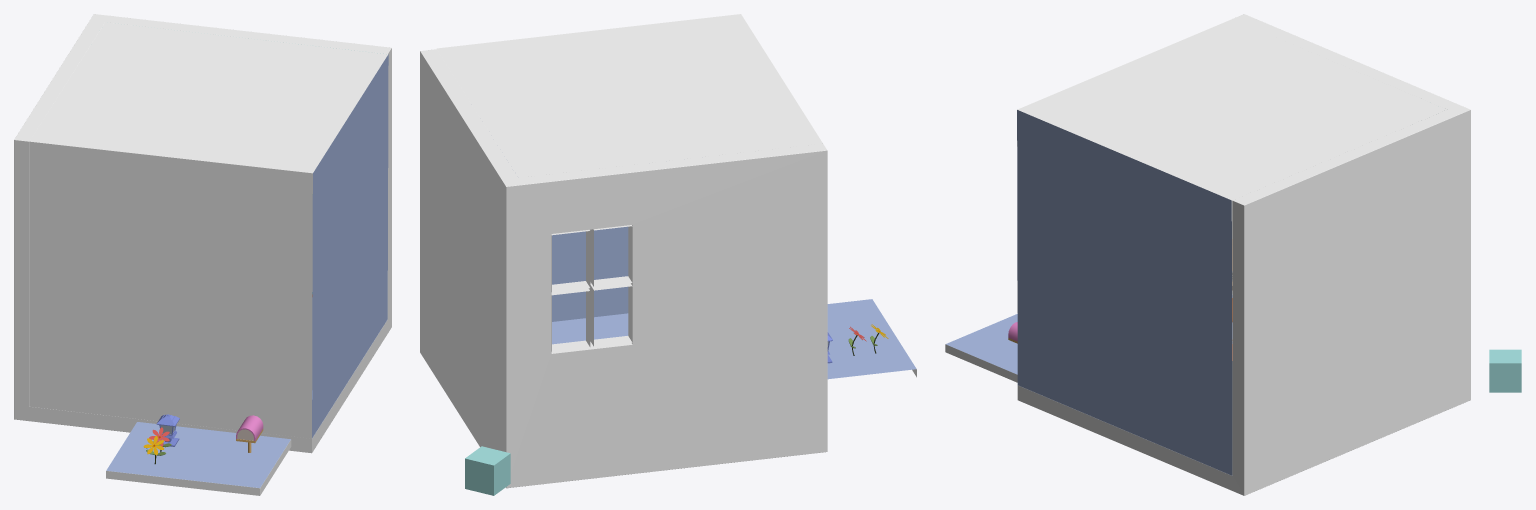
File: FinalVersion7.glb
3 views of the same model, side by side, from view 1: azimuth 30°, elevation 25°; view 2: azimuth 150°, elevation 25°; view 3: azimuth 270°, elevation 25° (orthographic). The views are drawn at different scales.
Visible parts, largest first — view 1: Body Cover, Body, Mini Floor, Mailbox, Lamp; view 2: Body, Body Cover, Mini Floor, Cube; view 3: Body Cover, Body, Mini Floor, Cube.
Part boxes in pixels (<box>): Body Cover: <box>29,22,388,438</box>; Body: <box>14,14,391,453</box>; Mini Floor: <box>106,422,291,495</box>; Mailbox: <box>236,415,263,452</box>; Lamp: <box>156,414,179,446</box>; Body: <box>420,49,827,488</box>; Body Cover: <box>436,14,822,321</box>; Mini Floor: <box>827,299,916,379</box>; Cube: <box>465,446,510,495</box>; Body Cover: <box>1017,19,1446,475</box>; Body: <box>1017,14,1470,495</box>; Mini Floor: <box>945,314,1017,382</box>; Cube: <box>1489,349,1521,392</box>.
Bounding box in the file's own units: 28.04 × 19.86 × 35.64.
